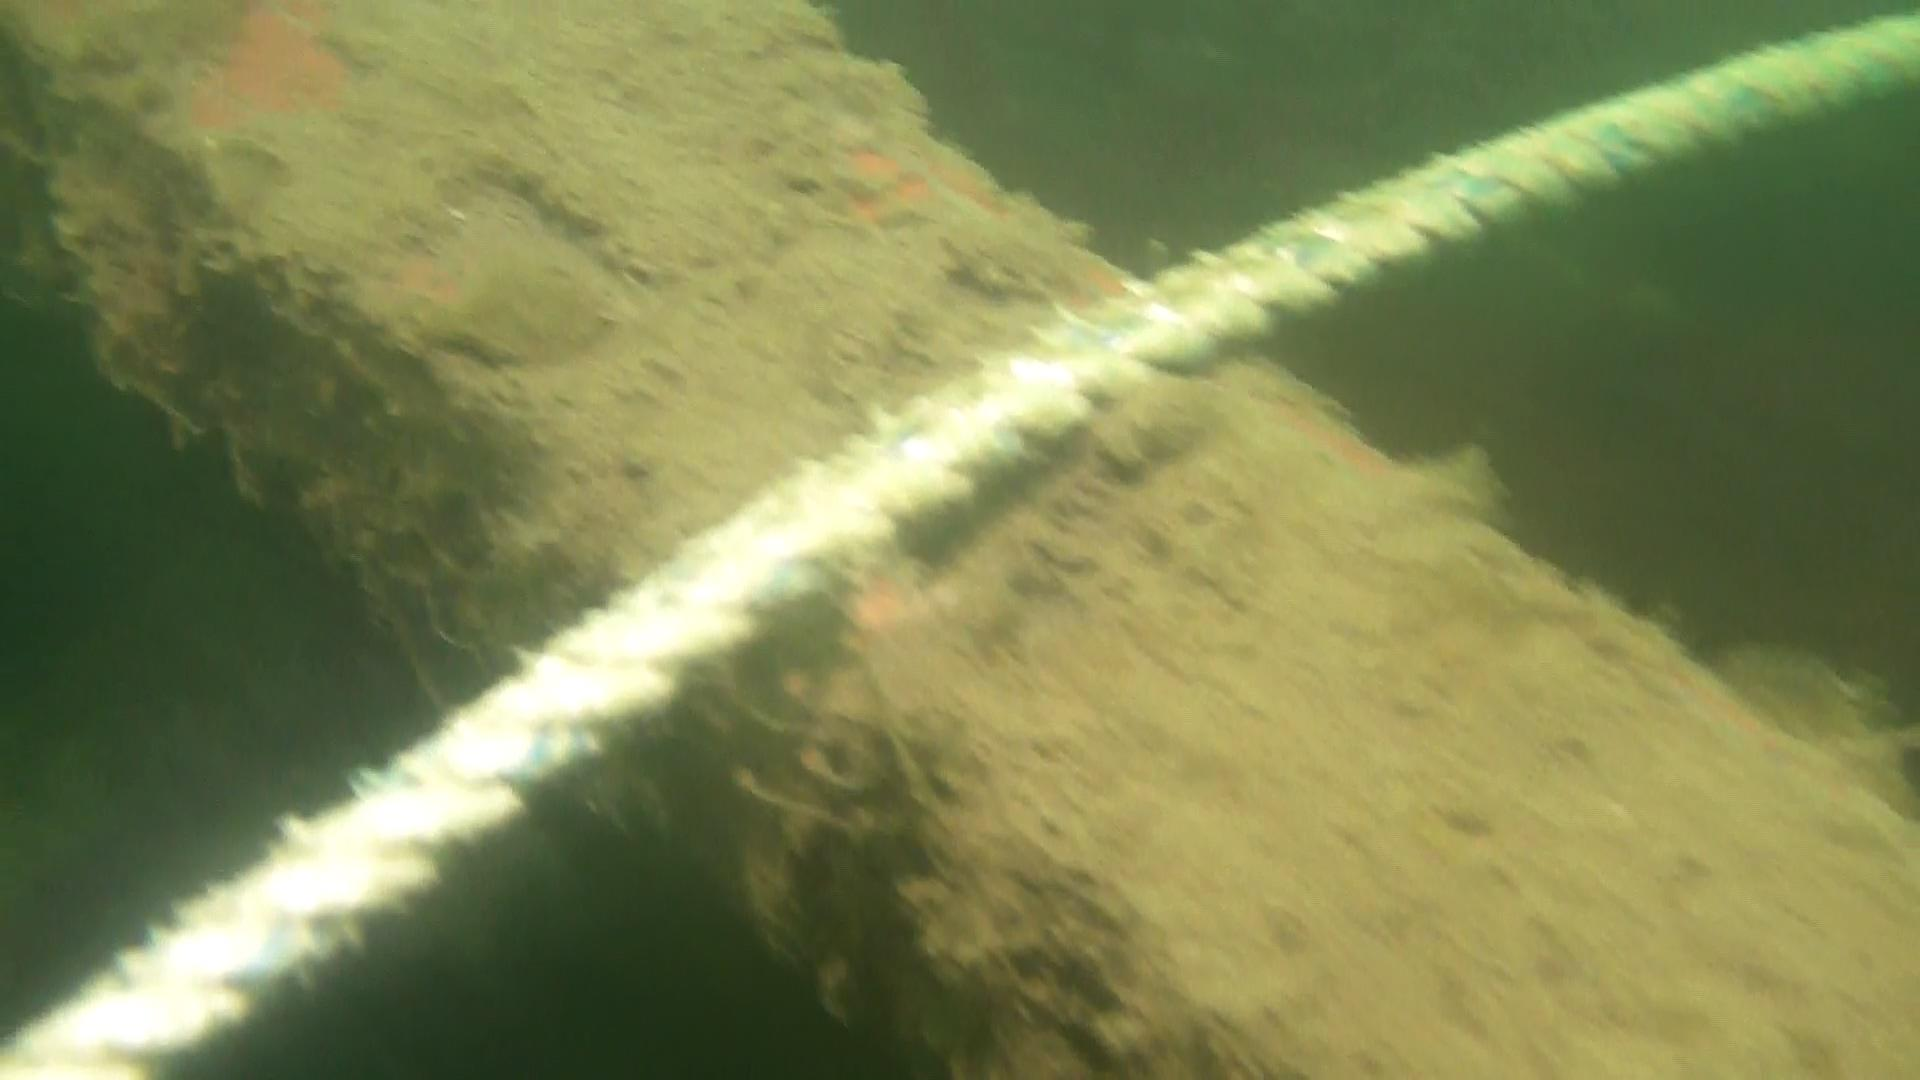rope: (0, 15, 1920, 1080)
